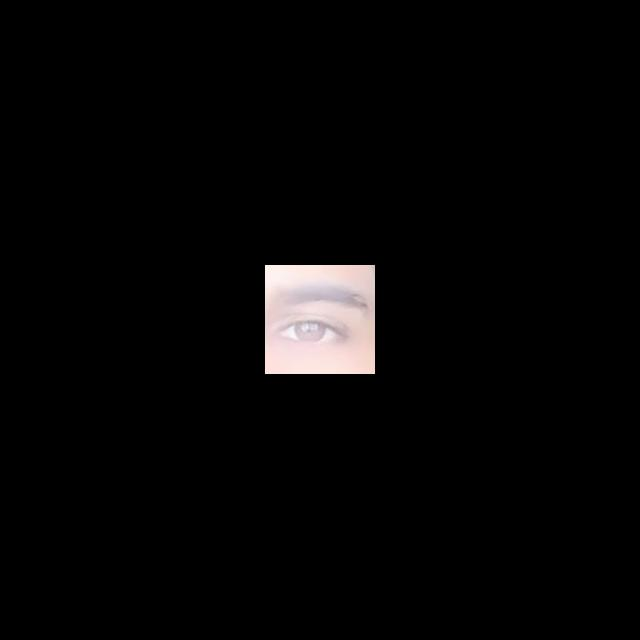eye: (282, 323, 339, 343)
iris: (295, 324, 326, 342)
